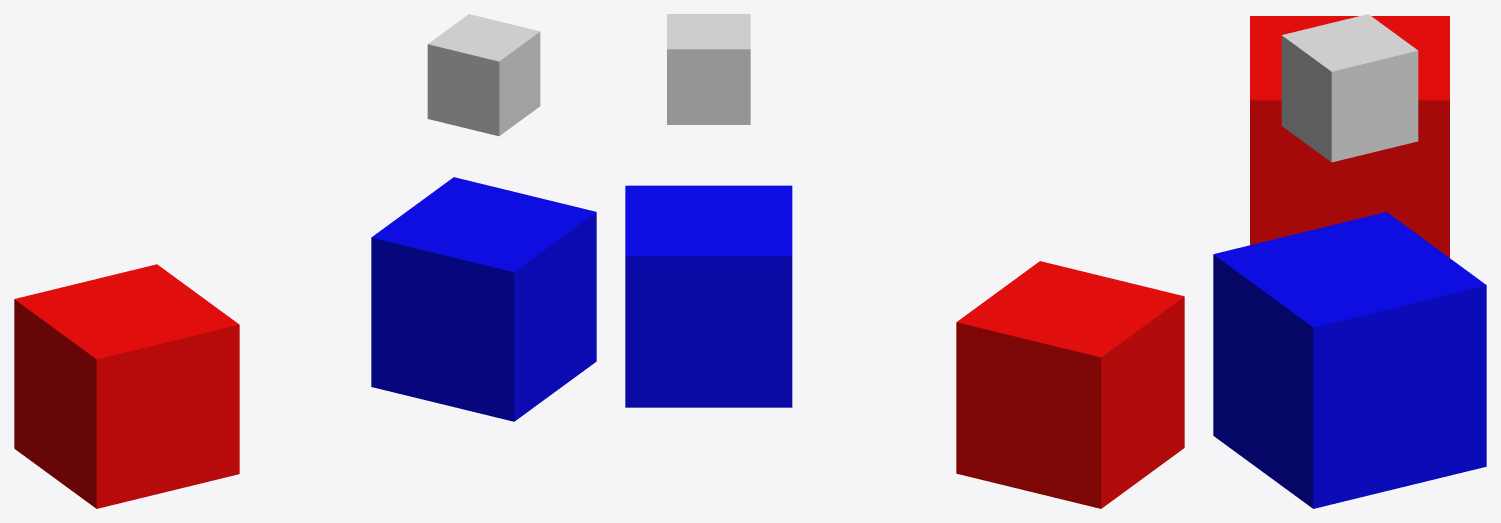
File: fbx_blender_two.fbx
3 renders of one model, left to right at view 1: azimuth 30°, elevation 25°; view 2: azimuth 150°, elevation 25°; view 3: azimuth 270°, elevation 25°, orthographic. The views are drawn at different scales.
Visible parts, largest first — view 1: Right, Left, Top; view 2: Left, Right, Top; view 3: Right, Left, Top.
Part boxes in pixels (x1,y1,x2,y2): Right: (371,177,596,421); Left: (14,264,239,508); Top: (427,14,540,136); Left: (956,261,1184,508); Right: (625,185,792,407); Top: (667,14,750,124); Right: (1213,212,1486,508); Left: (1250,16,1449,257); Top: (1281,14,1418,162).
Size of the model in its own units: 7.37 by 4.5 by 2.73.
